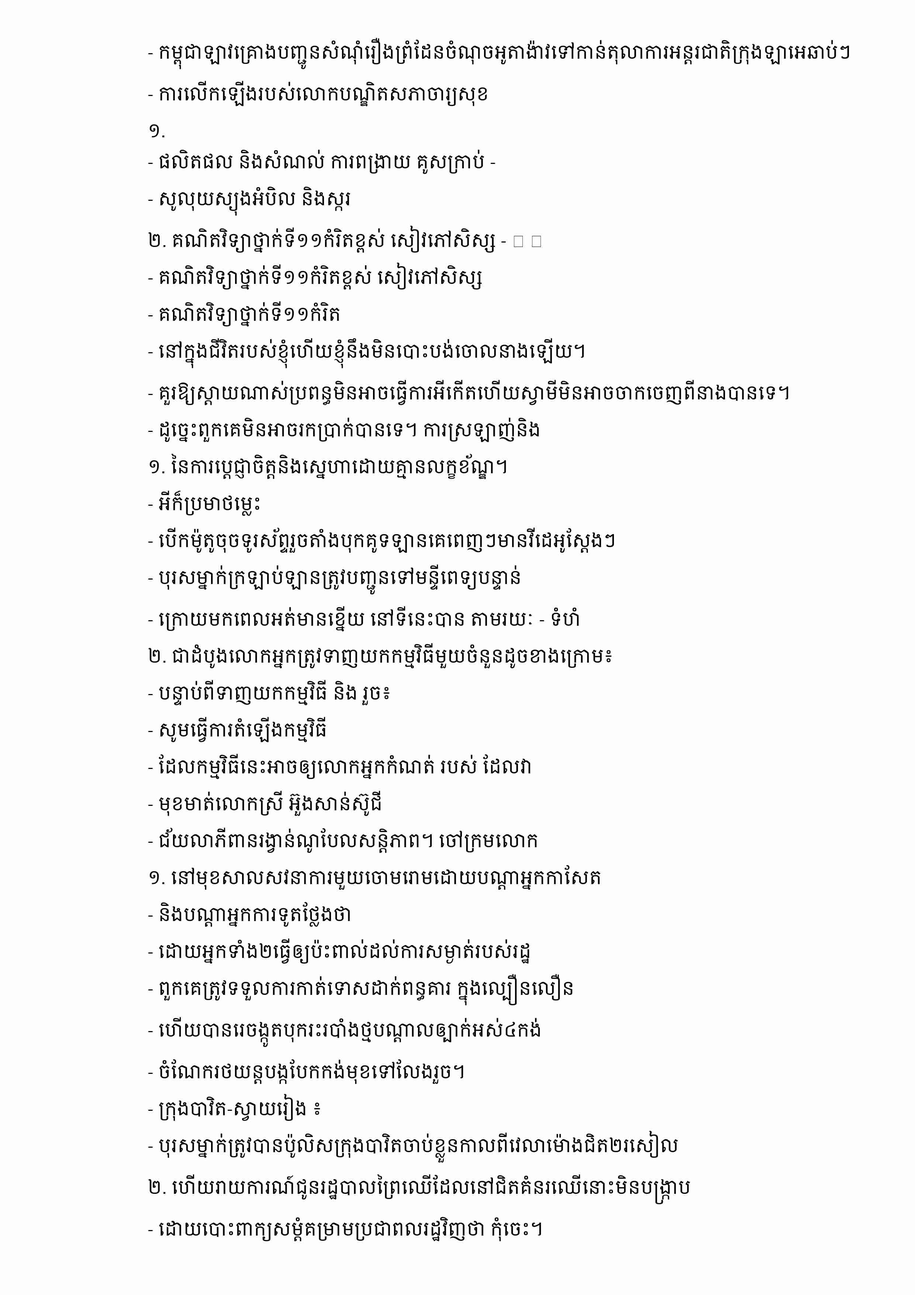text: (148, 38, 856, 69), (148, 1131, 684, 1163), (148, 1174, 696, 1205), (148, 380, 795, 405), (148, 974, 580, 1006), (148, 338, 591, 368), (148, 643, 619, 669), (148, 1017, 547, 1047), (148, 528, 621, 553), (148, 564, 526, 595), (148, 865, 607, 890), (148, 606, 586, 632), (148, 226, 548, 253), (148, 938, 536, 964), (148, 828, 543, 853), (148, 754, 537, 779), (148, 1217, 548, 1241), (148, 418, 546, 442), (148, 262, 487, 290), (148, 454, 513, 479), (148, 81, 494, 106), (148, 150, 501, 174), (148, 1059, 470, 1084), (148, 186, 356, 216), (148, 680, 396, 705), (148, 791, 387, 816), (148, 902, 357, 927), (148, 301, 346, 327), (148, 1094, 327, 1121), (148, 717, 332, 742), (148, 491, 266, 516), (148, 124, 171, 137)
